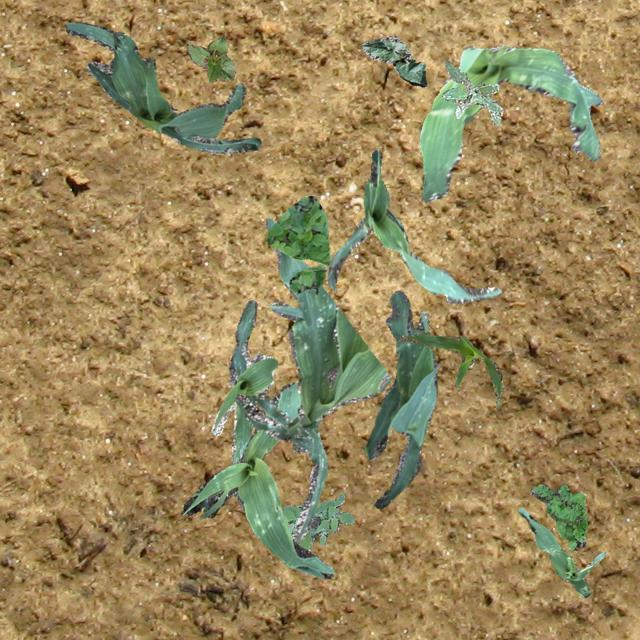crop: (234, 217, 390, 540), (182, 382, 332, 578), (418, 45, 602, 202), (326, 146, 500, 302), (64, 21, 260, 152), (364, 290, 438, 508), (210, 298, 276, 464), (396, 331, 502, 406), (518, 506, 604, 596), (360, 34, 426, 86), (186, 34, 234, 82)
weed: (266, 195, 330, 292), (282, 492, 354, 550), (441, 60, 502, 124), (530, 484, 586, 550)
